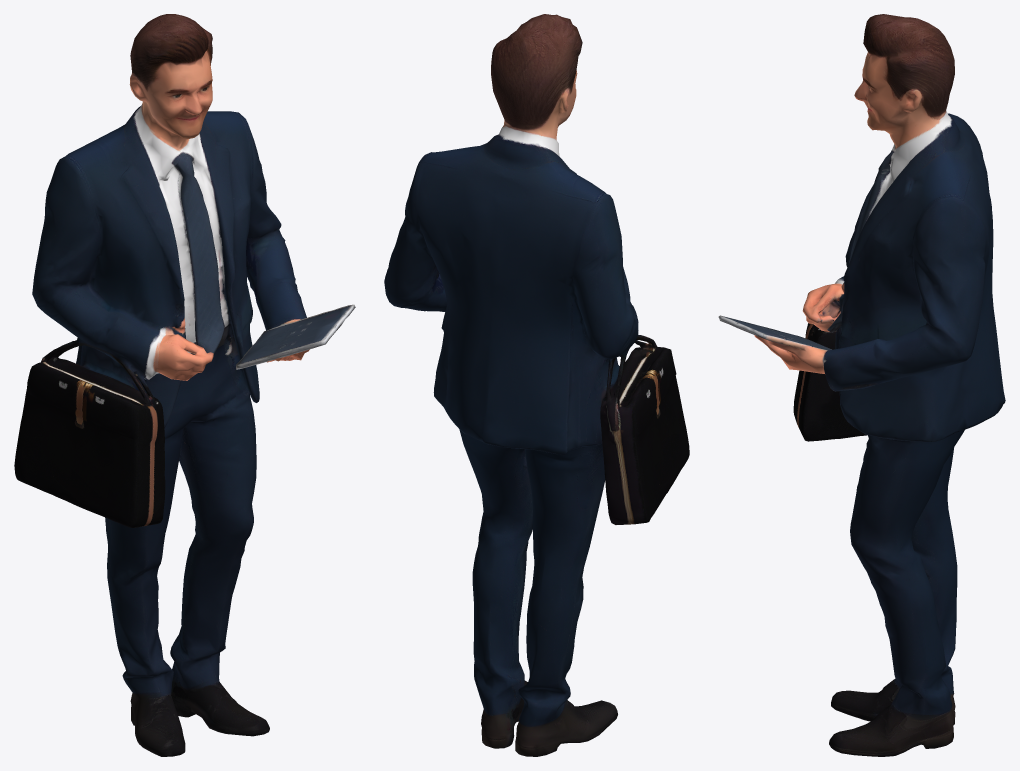
File: infantry-v2.bak.glb
3 views of the same model, side by side, from view 1: azimuth 30°, elevation 25°; view 2: azimuth 150°, elevation 25°; view 3: azimuth 270°, elevation 25° (orthographic).
Bounding box in the file's own units: 0.7321 × 1.91 × 0.6994.
1 material, 1 textured.
